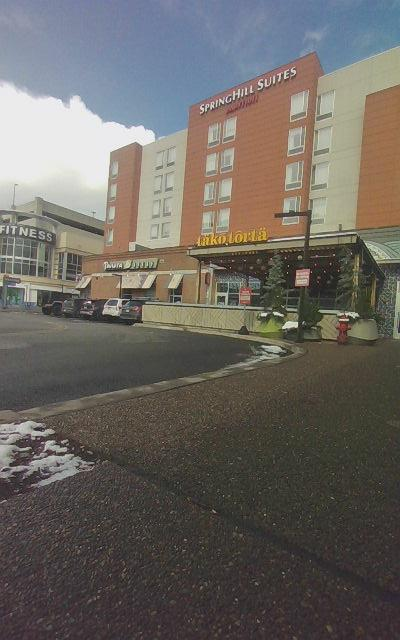curb: (0, 340, 399, 639)
road: (0, 311, 289, 410)
